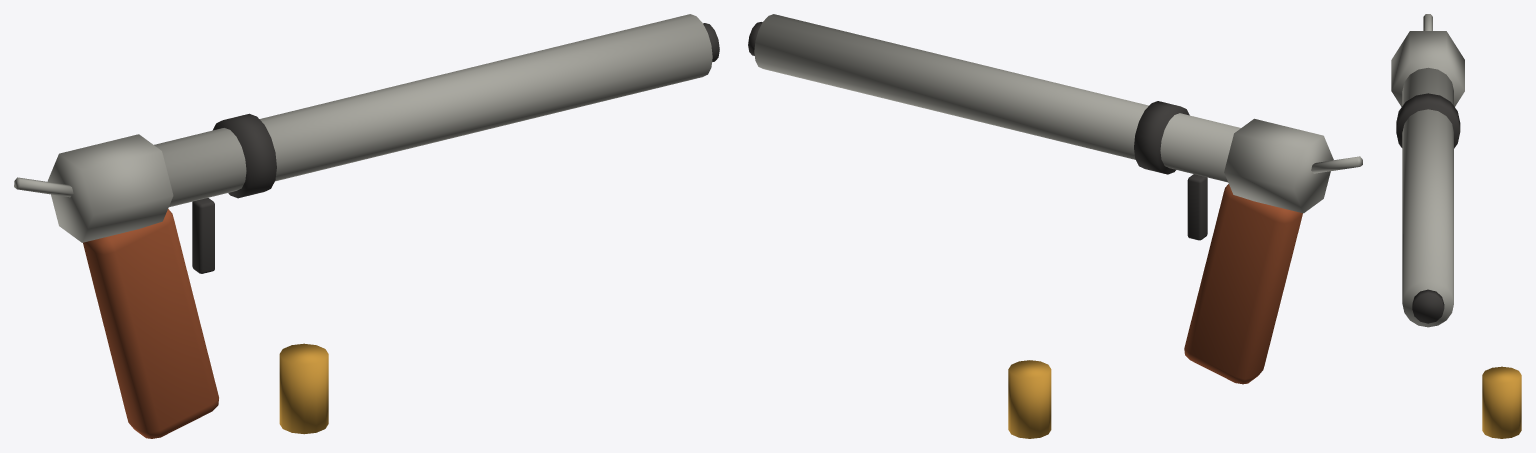
Rendered from pipegun.glb.
3 views of the same model, side by side, from view 1: azimuth 30°, elevation 25°; view 2: azimuth 150°, elevation 25°; view 3: azimuth 270°, elevation 25° (orthographic). The views are drawn at different scales.
Visible parts, largest first — view 1: barrel, grip, cap, shell, clamp, trigger, nail; view 2: barrel, grip, cap, shell, clamp, trigger; view 3: barrel, cap, shell, clamp, muzzle, nail.
Boxes of the visible parts, x1=… form: barrel: x1=154, y1=14, x2=712, y2=207; grip: x1=83, y1=209, x2=218, y2=438; cap: x1=47, y1=134, x2=173, y2=242; shell: x1=279, y1=343, x2=328, y2=434; clamp: x1=212, y1=113, x2=276, y2=198; trigger: x1=192, y1=198, x2=214, y2=273; nail: x1=14, y1=177, x2=73, y2=197; barrel: x1=754, y1=14, x2=1240, y2=182; grip: x1=1184, y1=184, x2=1302, y2=384; cap: x1=1224, y1=118, x2=1333, y2=213; shell: x1=1008, y1=360, x2=1051, y2=438; clamp: x1=1134, y1=101, x2=1189, y2=174; trigger: x1=1187, y1=174, x2=1207, y2=240; barrel: x1=1402, y1=67, x2=1453, y2=327; cap: x1=1391, y1=31, x2=1464, y2=106; shell: x1=1482, y1=366, x2=1521, y2=438; clamp: x1=1396, y1=93, x2=1460, y2=148; muzzle: x1=1412, y1=289, x2=1444, y2=323; nail: x1=1423, y1=14, x2=1432, y2=30.
Bounding box in the file's own units: 0.5212 × 0.261 × 0.106.
